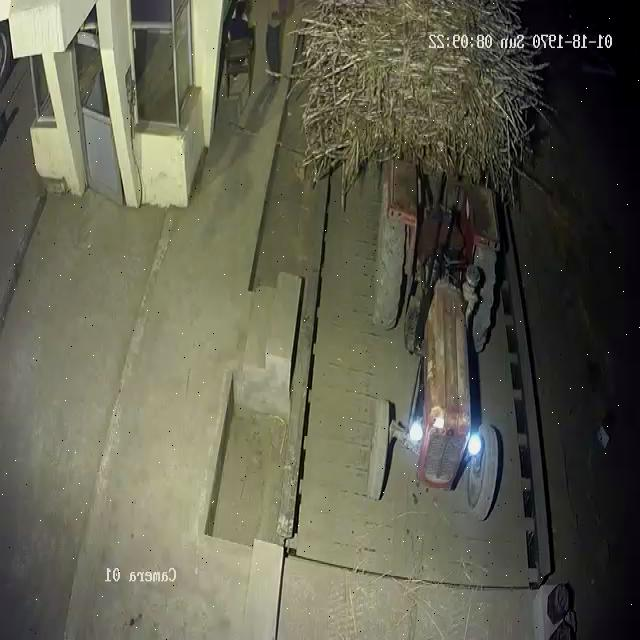Tratores - v5 YOLO V8L 2024-11-13: (362, 161, 511, 516)
